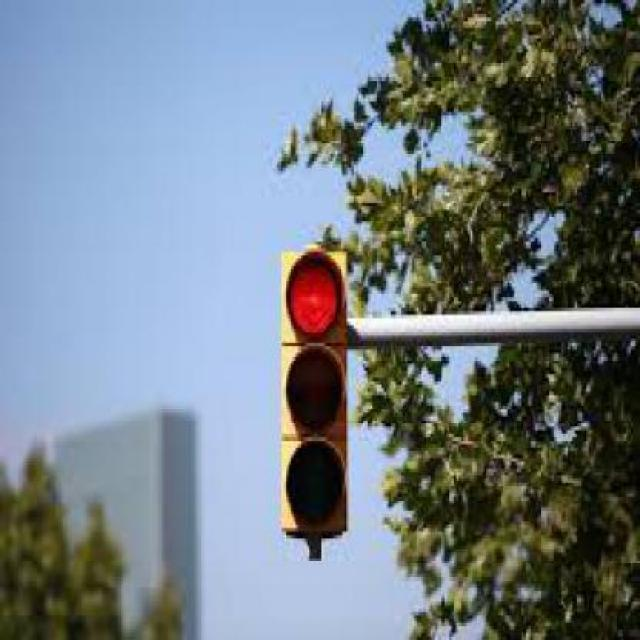traffic light: (279, 246, 350, 544)
